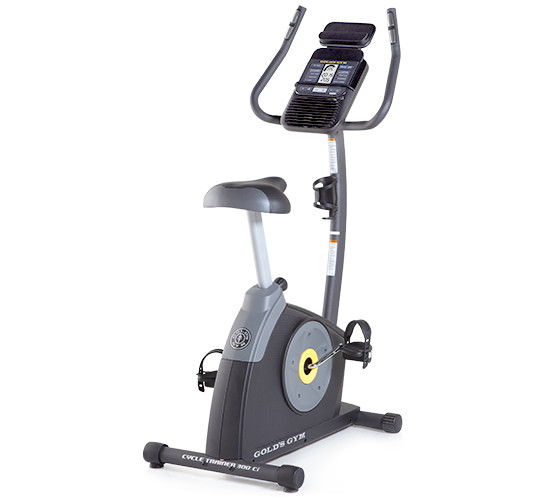gym_bike: (116, 14, 464, 491)
